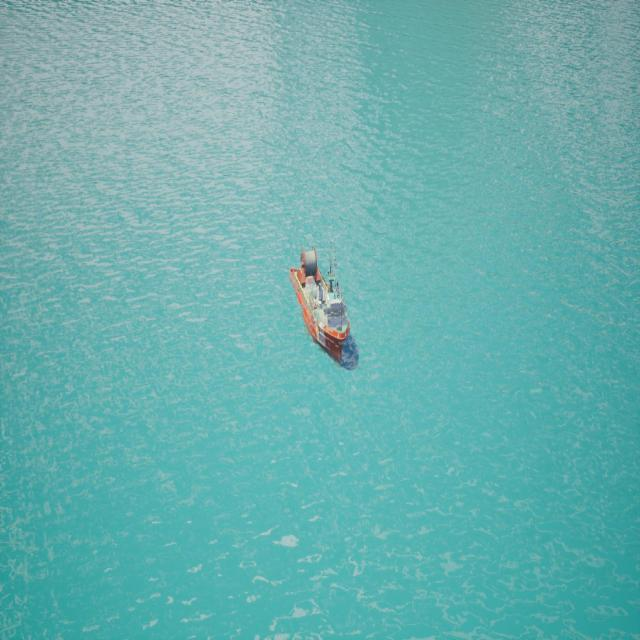tug boat: (282, 228, 371, 387)
